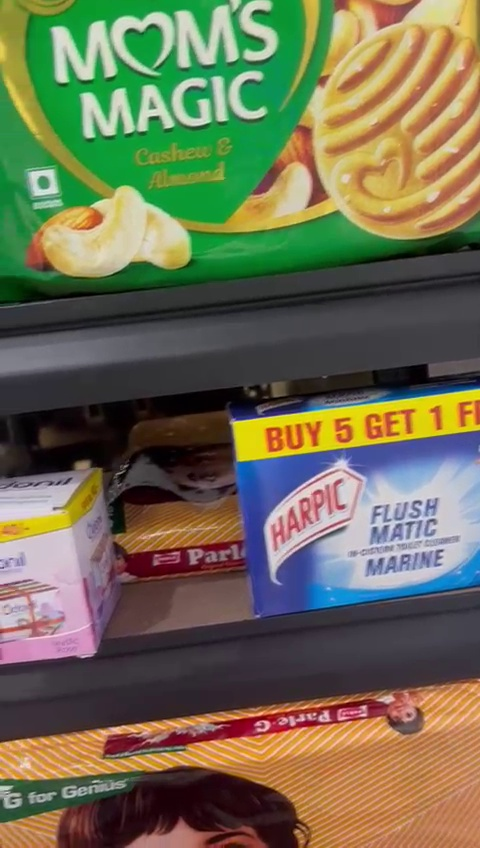Harpic: (240, 396, 480, 599)
